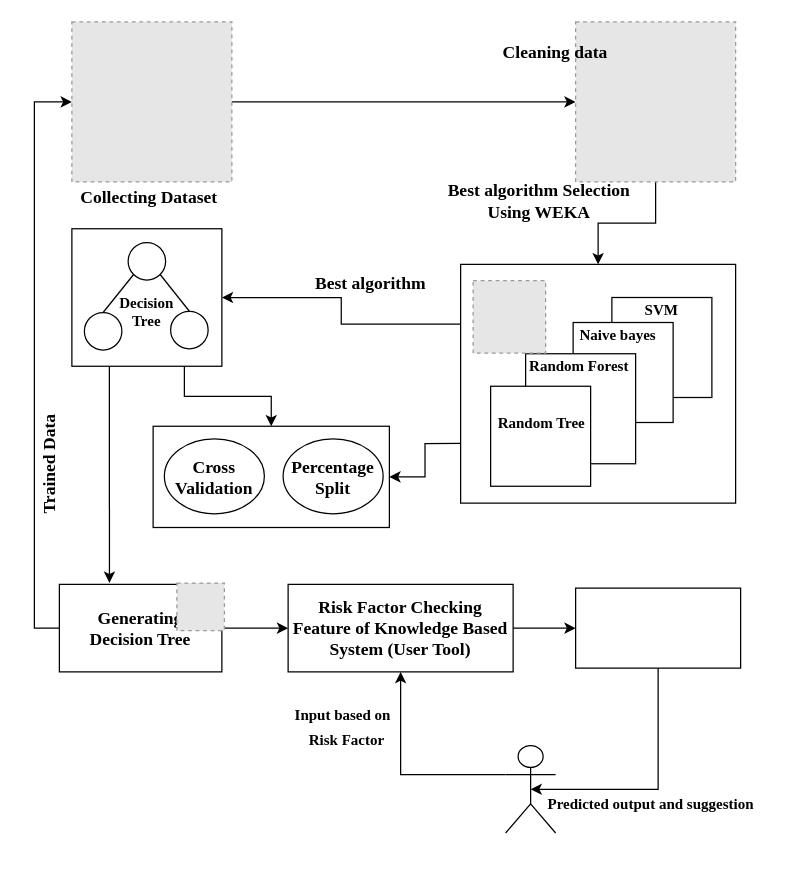
The diagram is 793 pixels wide and 881 high, and some of its shapes have lost their labels. Grey dashed boxes stand in for pictures. Here are the shapes that lost their labels. From the top down, the centre of each, then its label:
At point (657, 627): "Prediction".
At point (530, 788): "User".
